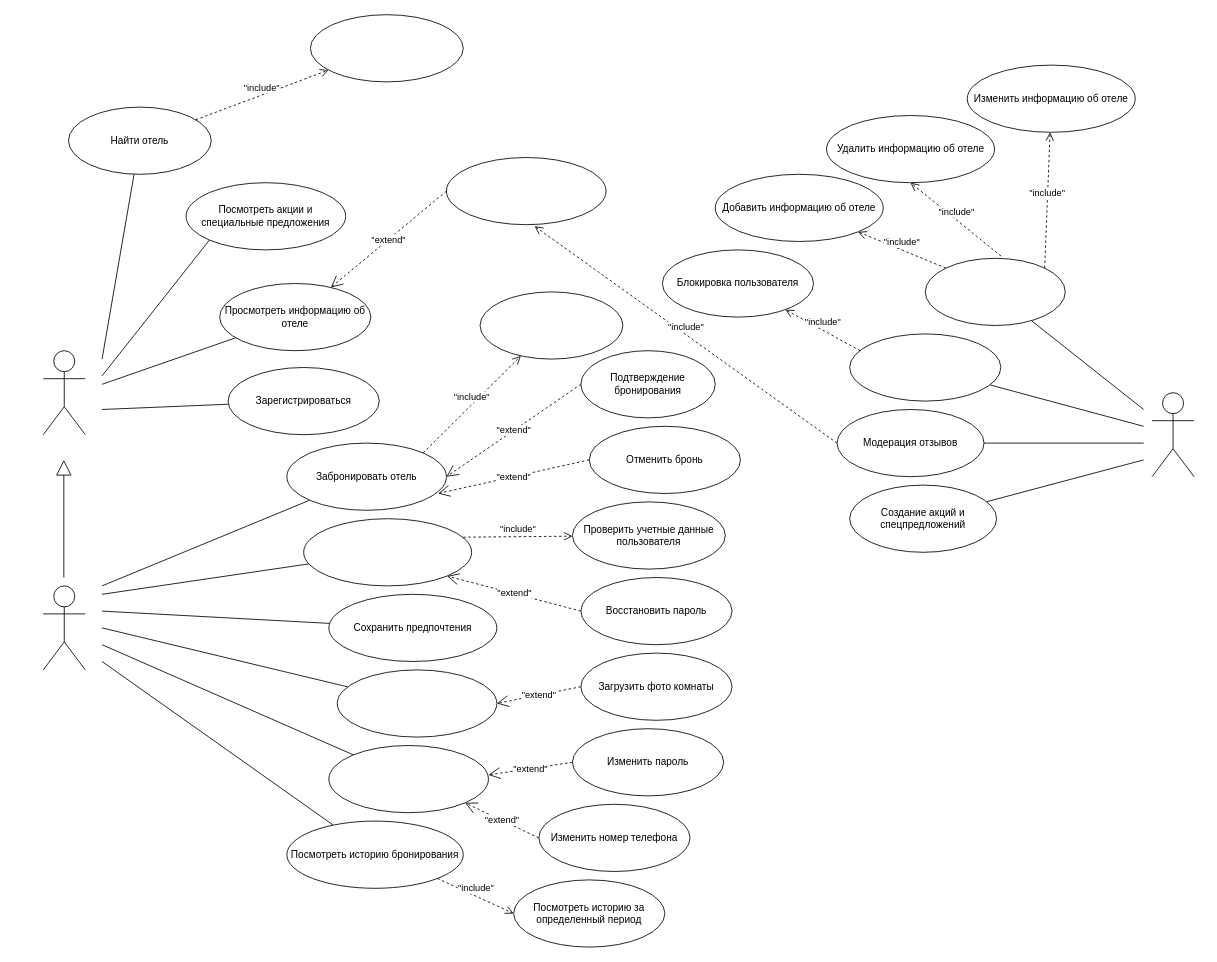
Some shapes in this 1217 by 962 pixel diagram are drawn without their labels. The box of each missing label's shape, as (x1, y1, x2, y2) in pixels:
Administrator: (1151, 392, 1194, 477)
Авторизоваться: (303, 518, 472, 586)
Зарегистрированный пользователь: (42, 585, 85, 670)
Изменить данные профиля: (328, 745, 488, 813)
Оставить отзыв: (336, 669, 497, 737)
Поиск по фильтрам: (310, 14, 463, 82)
Получить предложение альтернативных отелей: (479, 291, 623, 359)
Пользователь: (42, 350, 85, 435)
Просмотреть отзывы: (446, 157, 606, 225)
Управление отелями: (924, 257, 1065, 326)
Управление пользователями: (849, 333, 1001, 401)
